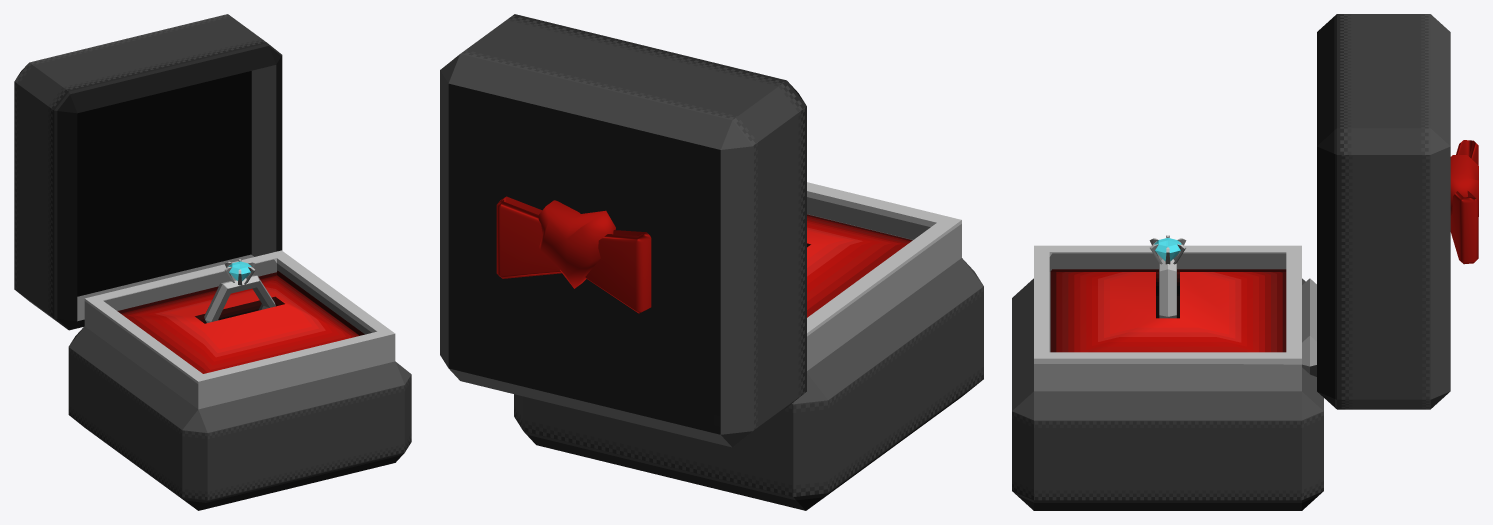
The model's file is low_poly_ringbox.glb.
3 views of the same model, side by side, from view 1: azimuth 30°, elevation 25°; view 2: azimuth 150°, elevation 25°; view 3: azimuth 270°, elevation 25° (orthographic). The views are drawn at different scales.
Parts seen in each view (by area): view 1: Ringbox_Open; view 2: Ringbox_Open; view 3: Ringbox_Open.
Part boxes in pixels (left/top/right/bottom): Ringbox_Open: left=14, top=14, right=411, bottom=510; Ringbox_Open: left=440, top=14, right=983, bottom=510; Ringbox_Open: left=1012, top=14, right=1478, bottom=510.
Size of the model in its own units: 0.0234 by 0.0318 by 0.0351.
Materials: 1 (1 with a texture image).
